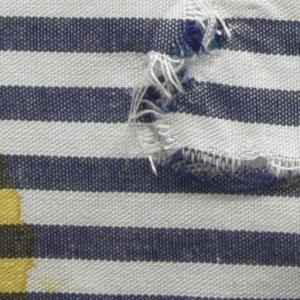Damage: (126, 1, 300, 199)
Oil Stain: (1, 152, 64, 300)
